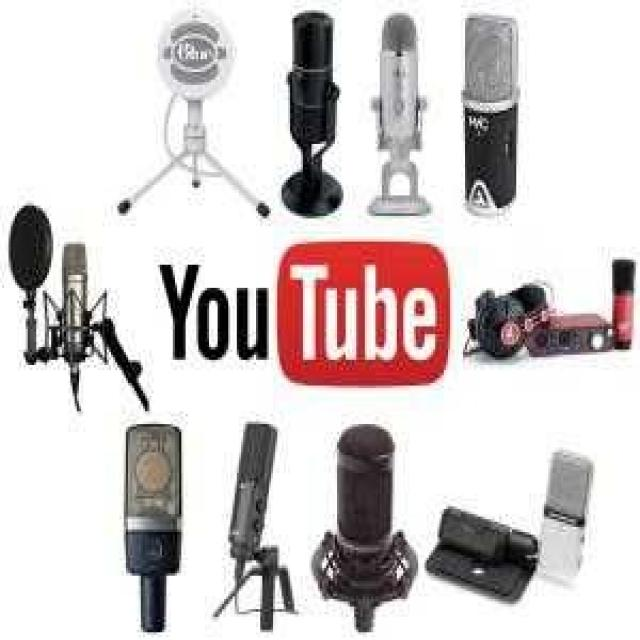microphone: (311, 422, 414, 610), (107, 412, 188, 632), (268, 11, 357, 172), (459, 7, 524, 226), (212, 415, 288, 593), (363, 10, 445, 174), (428, 502, 541, 612), (157, 8, 240, 153), (536, 441, 612, 595), (54, 230, 102, 388), (8, 199, 58, 333), (473, 286, 545, 356), (606, 251, 640, 353)
